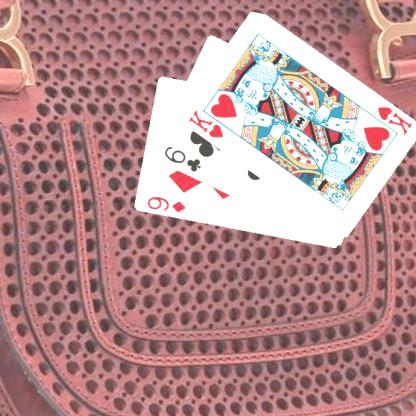6C: (161, 144, 202, 173)
9D: (143, 194, 187, 214)
KH: (374, 103, 413, 137), (185, 107, 225, 140)
